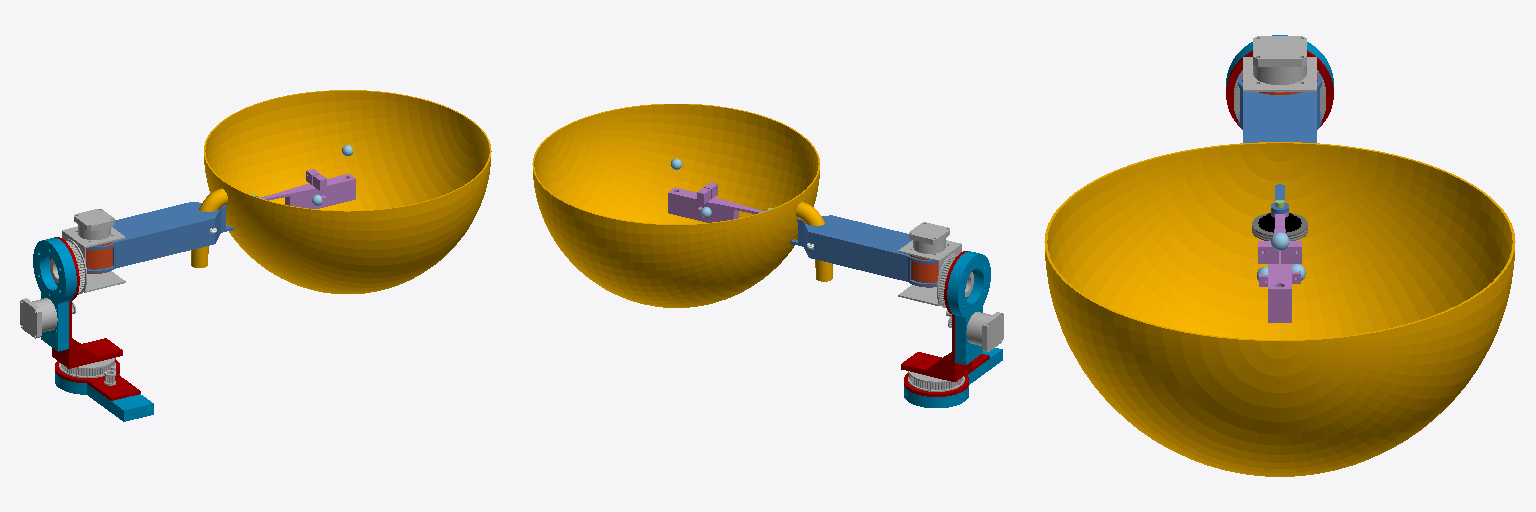
URDF robot description (manipulator_cable):
<?xml version="1.0" ?>
<!-- Generated using onshape-to-robot -->
<!-- Onshape https://cad.onshape.com/documents/b39b411822989851cca3e813/w/467ae2e9d0332de97ab9273b/e/7c7c756798b0544d5800e865 -->
<robot name="manipulator_cable">
  <!-- Link base_mate -->
  <link name="base_mate">
                <inertial>
          <origin xyz="0 -0.055 0.025" rpy="0 0 0"/>
          <mass value="0.9"/>
          <inertia ixx="0.0025" ixy="0" ixz="0" iyy="0.0015" iyz="0" izz="0.003"/>
        </inertial>
    <!-- Part base -->
    <visual>
      <origin xyz="-2.08167e-17 0 0.011" rpy="-1.5708 -1.5708 0"/>
      <geometry>
        <mesh filename="package://assets/base.obj"/>
      </geometry>
      <material name="base_material">
        <color rgba="0 0.6 0.8 1"/>
      </material>
    </visual>
    <collision>
      <origin xyz="-2.08167e-17 0 0.011" rpy="-1.5708 -1.5708 0"/>
      <geometry>
        <mesh filename="package://assets/base.obj"/>
      </geometry>
    </collision>
    <!-- Part pulley_idler -->
    <visual>
      <origin xyz="0.022 -0.053 0.043" rpy="-1.5708 -7.88861e-30 1.5708"/>
      <geometry>
        <mesh filename="package://assets/pulley_idler.obj"/>
      </geometry>
      <material name="pulley_idler_material">
        <color rgba="0.74902 0.74902 0.74902 1"/>
      </material>
    </visual>
    <collision>
      <origin xyz="0.022 -0.053 0.043" rpy="-1.5708 -7.88861e-30 1.5708"/>
      <geometry>
        <mesh filename="package://assets/pulley_idler.obj"/>
      </geometry>
    </collision>
    <!-- Part tutup_base_1 -->
    <visual>
      <origin xyz="3.04901e-18 -1.05985e-32 0.022" rpy="1.5708 7.69139e-30 -1.5708"/>
      <geometry>
        <mesh filename="package://assets/tutup_base_1.obj"/>
      </geometry>
      <material name="tutup_base_1_material">
        <color rgba="0.698039 0 0 1"/>
      </material>
    </visual>
    <collision>
      <origin xyz="3.04901e-18 -1.05985e-32 0.022" rpy="1.5708 7.69139e-30 -1.5708"/>
      <geometry>
        <mesh filename="package://assets/tutup_base_1.obj"/>
      </geometry>
    </collision>
    <!-- Part pulle_htd_5m_12t -->
    <visual>
      <origin xyz="7.26786e-18 -0.08 0.0455" rpy="-1.5708 -1.33227e-15 4.44089e-16"/>
      <geometry>
        <mesh filename="package://assets/pulle_htd_5m_12t.obj"/>
      </geometry>
      <material name="pulle_htd_5m_12t_material">
        <color rgba="0.74902 0.74902 0.74902 1"/>
      </material>
    </visual>
    <collision>
      <origin xyz="7.26786e-18 -0.08 0.0455" rpy="-1.5708 -1.33227e-15 4.44089e-16"/>
      <geometry>
        <mesh filename="package://assets/pulle_htd_5m_12t.obj"/>
      </geometry>
    </collision>
  </link>
  <!-- Link pulley_htd_5m_60t -->
  <link name="pulley_htd_5m_60t">
                <inertial>
          <origin xyz="0.1674 0 0" rpy="0 0 0"/>
          <mass value="1.5"/>
          <inertia ixx="0.0005125" ixy="0" ixz="0" iyy="0.02299595" iyz="0" izz="0.01212681"/>
        </inertial>
    <!-- Part pulley_htd_5m_60t -->
    <visual>
      <origin xyz="0 2.73691e-48 -0.0025" rpy="-1.5708 -6.56859e-47 5.93186e-32"/>
      <geometry>
        <mesh filename="package://assets/pulley_htd_5m_60t.obj"/>
      </geometry>
      <material name="pulley_htd_5m_60t_material">
        <color rgba="0.74902 0.74902 0.74902 1"/>
      </material>
    </visual>
    <collision>
      <origin xyz="0 2.73691e-48 -0.0025" rpy="-1.5708 -6.56859e-47 5.93186e-32"/>
      <geometry>
        <mesh filename="package://assets/pulley_htd_5m_60t.obj"/>
      </geometry>
    </collision>
    <!-- Part base_kedua -->
    <visual>
      <origin xyz="-0.0658116 -6.08653e-17 0.179049" rpy="1.47911e-31 -1.52349e-29 4.41487e-16"/>
      <geometry>
        <mesh filename="package://assets/base_kedua.obj"/>
      </geometry>
      <material name="base_kedua_material">
        <color rgba="0 0.6 0.8 1"/>
      </material>
    </visual>
    <collision>
      <origin xyz="-0.0658116 -6.08653e-17 0.179049" rpy="1.47911e-31 -1.52349e-29 4.41487e-16"/>
      <geometry>
        <mesh filename="package://assets/base_kedua.obj"/>
      </geometry>
    </collision>
    <!-- Part part_1 -->
    <visual>
      <origin xyz="0.232043 -0.0375 0.195349" rpy="-2.01765e-27 2.70617e-16 -6.93889e-17"/>
      <geometry>
        <mesh filename="package://assets/part_1.obj"/>
      </geometry>
      <material name="part_1_material">
        <color rgba="1 0.756863 0.054902 1"/>
      </material>
    </visual>
    <collision>
      <origin xyz="0.232043 -0.0375 0.195349" rpy="-2.01765e-27 2.70617e-16 -6.93889e-17"/>
      <geometry>
        <mesh filename="package://assets/part_1.obj"/>
      </geometry>
    </collision>
    <!-- Part pulley_idler_2 -->
    <visual>
      <origin xyz="-0.0338116 0.022 0.126049" rpy="4.44089e-16 -7.33047e-30 1.5708"/>
      <geometry>
        <mesh filename="package://assets/pulley_idler.obj"/>
      </geometry>
      <material name="pulley_idler_2_material">
        <color rgba="0.74902 0.74902 0.74902 1"/>
      </material>
    </visual>
    <collision>
      <origin xyz="-0.0338116 0.022 0.126049" rpy="4.44089e-16 -7.33047e-30 1.5708"/>
      <geometry>
        <mesh filename="package://assets/pulley_idler.obj"/>
      </geometry>
    </collision>
    <!-- Part gearbox_15_ratio -->
    <visual>
      <origin xyz="0.0426884 0.0285 0.264049" rpy="-3.14159 -4.44089e-16 3.14159"/>
      <geometry>
        <mesh filename="package://assets/gearbox_15_ratio.obj"/>
      </geometry>
      <material name="gearbox_15_ratio_material">
        <color rgba="0.74902 0.74902 0.74902 1"/>
      </material>
    </visual>
    <collision>
      <origin xyz="0.0426884 0.0285 0.264049" rpy="-3.14159 -4.44089e-16 3.14159"/>
      <geometry>
        <mesh filename="package://assets/gearbox_15_ratio.obj"/>
      </geometry>
    </collision>
    <!-- Part pulle_htd_5m_12t_2 -->
    <visual>
      <origin xyz="-0.0313116 -2.76743e-17 0.0990487" rpy="-1.5708 1.5708 0"/>
      <geometry>
        <mesh filename="package://assets/pulle_htd_5m_12t.obj"/>
      </geometry>
      <material name="pulle_htd_5m_12t_2_material">
        <color rgba="0.74902 0.74902 0.74902 1"/>
      </material>
    </visual>
    <collision>
      <origin xyz="-0.0313116 -2.76743e-17 0.0990487" rpy="-1.5708 1.5708 0"/>
      <geometry>
        <mesh filename="package://assets/pulle_htd_5m_12t.obj"/>
      </geometry>
    </collision>
    <!-- Part part_1_2 -->
    <visual>
      <origin xyz="0.232304 0.037208 0.191749" rpy="-2.0177e-27 6.17562e-16 -6.93889e-17"/>
      <geometry>
        <mesh filename="package://assets/part_1.obj"/>
      </geometry>
      <material name="part_1_2_material">
        <color rgba="1 0.756863 0.054902 1"/>
      </material>
    </visual>
    <collision>
      <origin xyz="0.232304 0.037208 0.191749" rpy="-2.0177e-27 6.17562e-16 -6.93889e-17"/>
      <geometry>
        <mesh filename="package://assets/part_1.obj"/>
      </geometry>
    </collision>
    <!-- Part 623zz -->
    <visual>
      <origin xyz="0.232304 0.037208 0.198249" rpy="9.64146e-19 6.17562e-16 -6.93889e-17"/>
      <geometry>
        <mesh filename="package://assets/623zz.obj"/>
      </geometry>
      <material name="623zz_material">
        <color rgba="0.956863 0.956863 0.956863 1"/>
      </material>
    </visual>
    <collision>
      <origin xyz="0.232304 0.037208 0.198249" rpy="9.64146e-19 6.17562e-16 -6.93889e-17"/>
      <geometry>
        <mesh filename="package://assets/623zz.obj"/>
      </geometry>
    </collision>
    <!-- Part pulley_htd_5m_60t_2 -->
    <visual>
      <origin xyz="-0.0313116 -3.37739e-17 0.179049" rpy="-1.5708 1.5708 0"/>
      <geometry>
        <mesh filename="package://assets/pulley_htd_5m_60t.obj"/>
      </geometry>
      <material name="pulley_htd_5m_60t_2_material">
        <color rgba="0.74902 0.74902 0.74902 1"/>
      </material>
    </visual>
    <collision>
      <origin xyz="-0.0313116 -3.37739e-17 0.179049" rpy="-1.5708 1.5708 0"/>
      <geometry>
        <mesh filename="package://assets/pulley_htd_5m_60t.obj"/>
      </geometry>
    </collision>
    <!-- Part link1 -->
    <visual>
      <origin xyz="0.334804 -6.75053e-17 0.177049" rpy="-2.02465e-27 4.44089e-16 -6.93889e-17"/>
      <geometry>
        <mesh filename="package://assets/link1.obj"/>
      </geometry>
      <material name="link1_material">
        <color rgba="0.32549 0.529412 0.752941 1"/>
      </material>
    </visual>
    <collision>
      <origin xyz="0.334804 -6.75053e-17 0.177049" rpy="-2.02465e-27 4.44089e-16 -6.93889e-17"/>
      <geometry>
        <mesh filename="package://assets/link1.obj"/>
      </geometry>
    </collision>
    <!-- Part 623zz_2 -->
    <visual>
      <origin xyz="0.232043 -0.0375 0.201849" rpy="9.64146e-19 2.70617e-16 -6.93889e-17"/>
      <geometry>
        <mesh filename="package://assets/623zz.obj"/>
      </geometry>
      <material name="623zz_2_material">
        <color rgba="0.956863 0.956863 0.956863 1"/>
      </material>
    </visual>
    <collision>
      <origin xyz="0.232043 -0.0375 0.201849" rpy="9.64146e-19 2.70617e-16 -6.93889e-17"/>
      <geometry>
        <mesh filename="package://assets/623zz.obj"/>
      </geometry>
    </collision>
    <!-- Part tutup_base_1_dgn_mounting -->
    <visual>
      <origin xyz="-0.0548116 -3.21433e-17 0.179049" rpy="1.5708 1.5708 0"/>
      <geometry>
        <mesh filename="package://assets/tutup_base_1_dgn_mounting.obj"/>
      </geometry>
      <material name="tutup_base_1_dgn_mounting_material">
        <color rgba="0.698039 0 0 1"/>
      </material>
    </visual>
    <collision>
      <origin xyz="-0.0548116 -3.21433e-17 0.179049" rpy="1.5708 1.5708 0"/>
      <geometry>
        <mesh filename="package://assets/tutup_base_1_dgn_mounting.obj"/>
      </geometry>
    </collision>
    <!-- Part shoulder_bracker -->
    <visual>
      <origin xyz="-0.0288116 -4.16014e-17 0.179049" rpy="-4.44089e-16 -2.03161e-27 -1.5708"/>
      <geometry>
        <mesh filename="package://assets/shoulder_bracker.obj"/>
      </geometry>
      <material name="shoulder_bracker_material">
        <color rgba="0.74902 0.74902 0.74902 1"/>
      </material>
    </visual>
    <collision>
      <origin xyz="-0.0288116 -4.16014e-17 0.179049" rpy="-4.44089e-16 -2.03161e-27 -1.5708"/>
      <geometry>
        <mesh filename="package://assets/shoulder_bracker.obj"/>
      </geometry>
    </collision>
    <!-- Part gearbox_15_ratio_2 -->
    <visual>
      <origin xyz="-0.118812 0.0285 0.127549" rpy="6.93889e-17 1.5708 0"/>
      <geometry>
        <mesh filename="package://assets/gearbox_15_ratio.obj"/>
      </geometry>
      <material name="gearbox_15_ratio_2_material">
        <color rgba="0.74902 0.74902 0.74902 1"/>
      </material>
    </visual>
    <collision>
      <origin xyz="-0.118812 0.0285 0.127549" rpy="6.93889e-17 1.5708 0"/>
      <geometry>
        <mesh filename="package://assets/gearbox_15_ratio.obj"/>
      </geometry>
    </collision>
    <!-- Part simple_ball -->
    <visual>
      <origin xyz="-0.0238116 -6.77745e-17 0.200249" rpy="-2.03206e-27 4.44089e-16 -6.93889e-17"/>
      <geometry>
        <mesh filename="package://assets/simple_ball.obj"/>
      </geometry>
      <material name="simple_ball_material">
        <color rgba="0.615686 0.811765 0.929412 1"/>
      </material>
    </visual>
    <collision>
      <origin xyz="-0.0238116 -6.77745e-17 0.200249" rpy="-2.03206e-27 4.44089e-16 -6.93889e-17"/>
      <geometry>
        <mesh filename="package://assets/simple_ball.obj"/>
      </geometry>
    </collision>
    <!-- Part link1_base_pulley -->
    <visual>
      <origin xyz="0.0141884 -7.05644e-17 0.266049" rpy="-2.03206e-27 5.66554e-16 -6.93889e-17"/>
      <geometry>
        <mesh filename="package://assets/link1_base_pulley.obj"/>
      </geometry>
      <material name="link1_base_pulley_material">
        <color rgba="0.866667 0.321569 0.156863 1"/>
      </material>
    </visual>
    <collision>
      <origin xyz="0.0141884 -7.05644e-17 0.266049" rpy="-2.03206e-27 5.66554e-16 -6.93889e-17"/>
      <geometry>
        <mesh filename="package://assets/link1_base_pulley.obj"/>
      </geometry>
    </collision>
    <!-- Part simple_ball_2 -->
    <visual>
      <origin xyz="-0.0238116 -6.77745e-17 0.203849" rpy="-2.03206e-27 4.44089e-16 -6.93889e-17"/>
      <geometry>
        <mesh filename="package://assets/simple_ball.obj"/>
      </geometry>
      <material name="simple_ball_2_material">
        <color rgba="0.615686 0.811765 0.929412 1"/>
      </material>
    </visual>
    <collision>
      <origin xyz="-0.0238116 -6.77745e-17 0.203849" rpy="-2.03206e-27 4.44089e-16 -6.93889e-17"/>
      <geometry>
        <mesh filename="package://assets/simple_ball.obj"/>
      </geometry>
    </collision>
  </link>
  <!-- Link link2_tendon -->
  <link name="link2_tendon">
                <inertial>
          <origin xyz="0.095 0 0" rpy="0 0 0"/>
          <mass value="0.5"/>
          <inertia ixx="8.370833e-05" ixy="0" ixz="0" iyy="0.001536833" iyz="0" izz="0.002908958"/>
        </inertial>
    <!-- Part outer_big_stopper -->
    <visual>
      <origin xyz="0 -4.14427e-20 -0.0102929" rpy="-4.96131e-16 1.5708 0"/>
      <geometry>
        <mesh filename="package://assets/outer_big_stopper.obj"/>
      </geometry>
      <material name="outer_big_stopper_material">
        <color rgba="0 0 0 1"/>
      </material>
    </visual>
    <collision>
      <origin xyz="0 -4.14427e-20 -0.0102929" rpy="-4.96131e-16 1.5708 0"/>
      <geometry>
        <mesh filename="package://assets/outer_big_stopper.obj"/>
      </geometry>
    </collision>
    <!-- Part link2_tendon -->
    <visual>
      <origin xyz="0 -3.06162e-19 -0.04" rpy="3.68876e-30 4.93038e-32 -1.84889e-32"/>
      <geometry>
        <mesh filename="package://assets/link2_tendon.obj"/>
      </geometry>
      <material name="link2_tendon_material">
        <color rgba="0.764706 0.545098 0.803922 1"/>
      </material>
    </visual>
    <collision>
      <origin xyz="0 -3.06162e-19 -0.04" rpy="3.68876e-30 4.93038e-32 -1.84889e-32"/>
      <geometry>
        <mesh filename="package://assets/link2_tendon.obj"/>
      </geometry>
    </collision>
    <!-- Part shaft -->
    <visual>
      <origin xyz="0 -3.06162e-19 0.01" rpy="3.69127e-30 -1.21431e-16 -5.55112e-17"/>
      <geometry>
        <mesh filename="package://assets/shaft.obj"/>
      </geometry>
      <material name="shaft_material">
        <color rgba="0.654902 0.823529 0.576471 1"/>
      </material>
    </visual>
    <collision>
      <origin xyz="0 -3.06162e-19 0.01" rpy="3.69127e-30 -1.21431e-16 -5.55112e-17"/>
      <geometry>
        <mesh filename="package://assets/shaft.obj"/>
      </geometry>
    </collision>
    <!-- Part outer_big_stopper_2 -->
    <visual>
      <origin xyz="0 -7.6483e-20 -0.0302929" rpy="6.34909e-16 -1.5708 0"/>
      <geometry>
        <mesh filename="package://assets/outer_big_stopper.obj"/>
      </geometry>
      <material name="outer_big_stopper_2_material">
        <color rgba="0 0 0 1"/>
      </material>
    </visual>
    <collision>
      <origin xyz="0 -7.6483e-20 -0.0302929" rpy="6.34909e-16 -1.5708 0"/>
      <geometry>
        <mesh filename="package://assets/outer_big_stopper.obj"/>
      </geometry>
    </collision>
    <!-- Part cup -->
    <visual>
      <origin xyz="0.19 -2.54114e-18 0.0515" rpy="3.06162e-16 4.93038e-32 -1.84889e-32"/>
      <geometry>
        <mesh filename="package://assets/cup.obj"/>
      </geometry>
      <material name="cup_material">
        <color rgba="0.980392 0.713725 0.00392157 1"/>
      </material>
    </visual>
    <collision>
      <origin xyz="0.19 -2.54114e-18 0.0515" rpy="3.06162e-16 4.93038e-32 -1.84889e-32"/>
      <geometry>
        <mesh filename="package://assets/cup.obj"/>
      </geometry>
    </collision>
    <!-- Part bearing_30x37 -->
    <visual>
      <origin xyz="0 3.97512e-30 -0.0222929" rpy="2.02452e-27 -4.44089e-16 5.10009e-16"/>
      <geometry>
        <mesh filename="package://assets/bearing_30x37.obj"/>
      </geometry>
      <material name="bearing_30x37_material">
        <color rgba="0.956863 0.956863 0.956863 1"/>
      </material>
    </visual>
    <collision>
      <origin xyz="0 3.97512e-30 -0.0222929" rpy="2.02452e-27 -4.44089e-16 5.10009e-16"/>
      <geometry>
        <mesh filename="package://assets/bearing_30x37.obj"/>
      </geometry>
    </collision>
    <!-- Part pulley_big -->
    <visual>
      <origin xyz="0 -6.16298e-33 0.00450711" rpy="7.49401e-16 1.5708 0"/>
      <geometry>
        <mesh filename="package://assets/pulley_big.obj"/>
      </geometry>
      <material name="pulley_big_material">
        <color rgba="0.501961 0.501961 0.501961 1"/>
      </material>
    </visual>
    <collision>
      <origin xyz="0 -6.16298e-33 0.00450711" rpy="7.49401e-16 1.5708 0"/>
      <geometry>
        <mesh filename="package://assets/pulley_big.obj"/>
      </geometry>
    </collision>
    <!-- Part simple_ball_3 -->
    <visual>
      <origin xyz="0.12 0.0175 -0.0182" rpy="-1.5708 -2.58881e-29 1.5708"/>
      <geometry>
        <mesh filename="package://assets/simple_ball.obj"/>
      </geometry>
      <material name="simple_ball_3_material">
        <color rgba="0.615686 0.811765 0.929412 1"/>
      </material>
    </visual>
    <collision>
      <origin xyz="0.12 0.0175 -0.0182" rpy="-1.5708 -2.58881e-29 1.5708"/>
      <geometry>
        <mesh filename="package://assets/simple_ball.obj"/>
      </geometry>
    </collision>
    <!-- Part simple_ball_4 -->
    <visual>
      <origin xyz="0.12 -0.015 -0.0218" rpy="-1.5708 -3.68876e-30 1.5708"/>
      <geometry>
        <mesh filename="package://assets/simple_ball.obj"/>
      </geometry>
      <material name="simple_ball_4_material">
        <color rgba="0.615686 0.811765 0.929412 1"/>
      </material>
    </visual>
    <collision>
      <origin xyz="0.12 -0.015 -0.0218" rpy="-1.5708 -3.68876e-30 1.5708"/>
      <geometry>
        <mesh filename="package://assets/simple_ball.obj"/>
      </geometry>
    </collision>
    <!-- Part simple_ball_5 -->
    <visual>
      <origin xyz="0.19 5.81707e-19 0.0515" rpy="3.06162e-16 4.93038e-32 -1.84889e-32"/>
      <geometry>
        <mesh filename="package://assets/simple_ball.obj"/>
      </geometry>
      <material name="simple_ball_5_material">
        <color rgba="0.615686 0.811765 0.929412 1"/>
      </material>
    </visual>
    <collision>
      <origin xyz="0.19 5.81707e-19 0.0515" rpy="3.06162e-16 4.93038e-32 -1.84889e-32"/>
      <geometry>
        <mesh filename="package://assets/simple_ball.obj"/>
      </geometry>
    </collision>
  </link>
  <!-- Joint from pulley_htd_5m_60t to link2_tendon -->
  <joint name="link2_link1" type="revolute">
    <origin xyz="0.334804 -6.78114e-17 0.222049" rpy="-2.02465e-27 4.44089e-16 -6.93889e-17"/>
    <parent link="pulley_htd_5m_60t"/>
    <child link="link2_tendon"/>
    <axis xyz="0 0 1"/>
    <limit effort="10" velocity="10" lower="-3.141592653589793" upper="3.141592653589793"/>
  </joint>
  <!-- Joint from base_mate to pulley_htd_5m_60t -->
  <joint name="link1_base" type="revolute">
    <origin xyz="4.04133e-18 -1.79471e-33 0.048" rpy="-2.95823e-31 3.45127e-31 -4.4062e-16"/>
    <parent link="base_mate"/>
    <child link="pulley_htd_5m_60t"/>
    <axis xyz="0 0 1"/>
    <limit effort="10" velocity="10" lower="-3.141592653589793" upper="3.141592653589793"/>
  </joint>
</robot>

--- Facts derived from the render (not from the file) ---
Views: 3 orthographic renders of the robot side by side, from view 1: azimuth 30°, elevation 25°; view 2: azimuth 150°, elevation 25°; view 3: azimuth 270°, elevation 25°.
Robot: manipulator_cable — 3 links, 2 joints (2 revolute); root link base_mate; default pose: all joints at 0.
Links seen in each view (by area): view 1: link2_tendon, pulley_htd_5m_60t, base_mate; view 2: link2_tendon, pulley_htd_5m_60t, base_mate; view 3: link2_tendon, pulley_htd_5m_60t.
Link boxes in pixels (<box>): link2_tendon: <box>191,90,491,293</box>; pulley_htd_5m_60t: <box>20,196,258,377</box>; base_mate: <box>55,359,153,421</box>; link2_tendon: <box>532,104,832,307</box>; pulley_htd_5m_60t: <box>765,209,1003,391</box>; base_mate: <box>904,348,1002,407</box>; link2_tendon: <box>1044,142,1515,476</box>; pulley_htd_5m_60t: <box>1226,35,1333,213</box>.
Bounding box of the posed robot: 0.8951 × 0.503 × 0.3315 m (x, y, z).
31 mesh visuals loaded from 20 distinct referenced files (20 OBJ).
